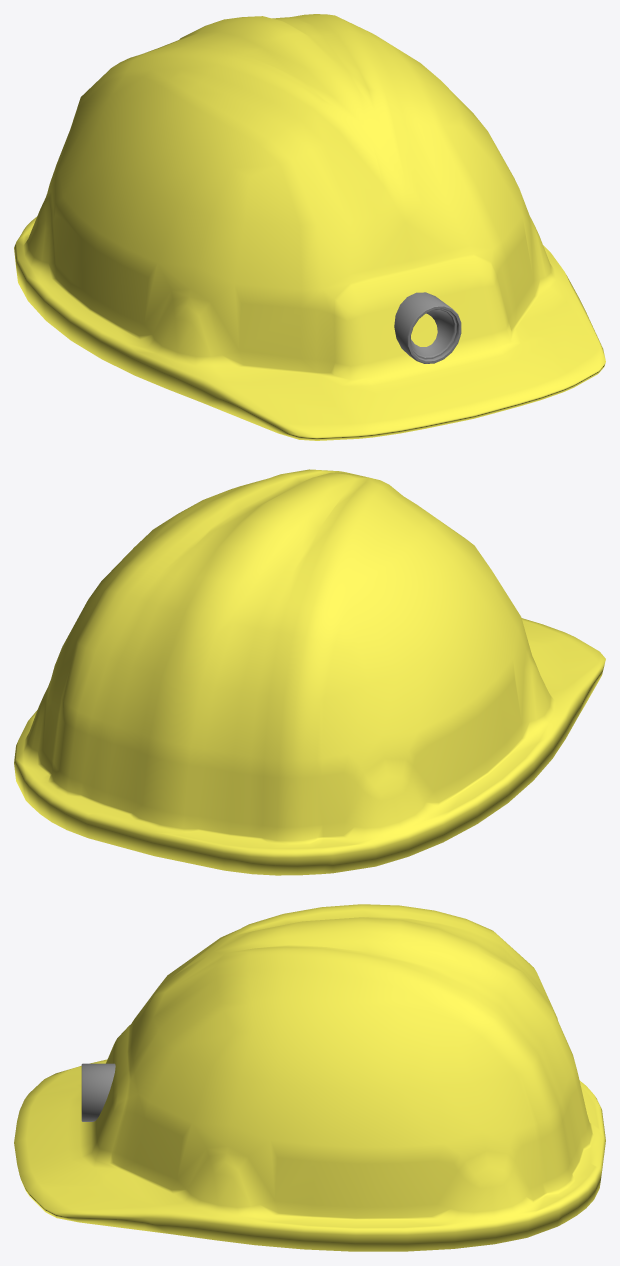
Rendered from helmet.fbx.
3 renders of one model, top to bottom at view 1: azimuth 30°, elevation 25°; view 2: azimuth 150°, elevation 25°; view 3: azimuth 270°, elevation 25°, orthographic. The views are drawn at different scales.
Parts seen in each view (by area): view 1: polySurface3; view 2: polySurface3; view 3: polySurface3.
Part boxes in pixels (<box>): polySurface3: <box>14,14,605,440</box>; polySurface3: <box>14,469,605,875</box>; polySurface3: <box>14,904,605,1251</box>.
Size of the model in its own units: 118 by 66.24 by 150.
